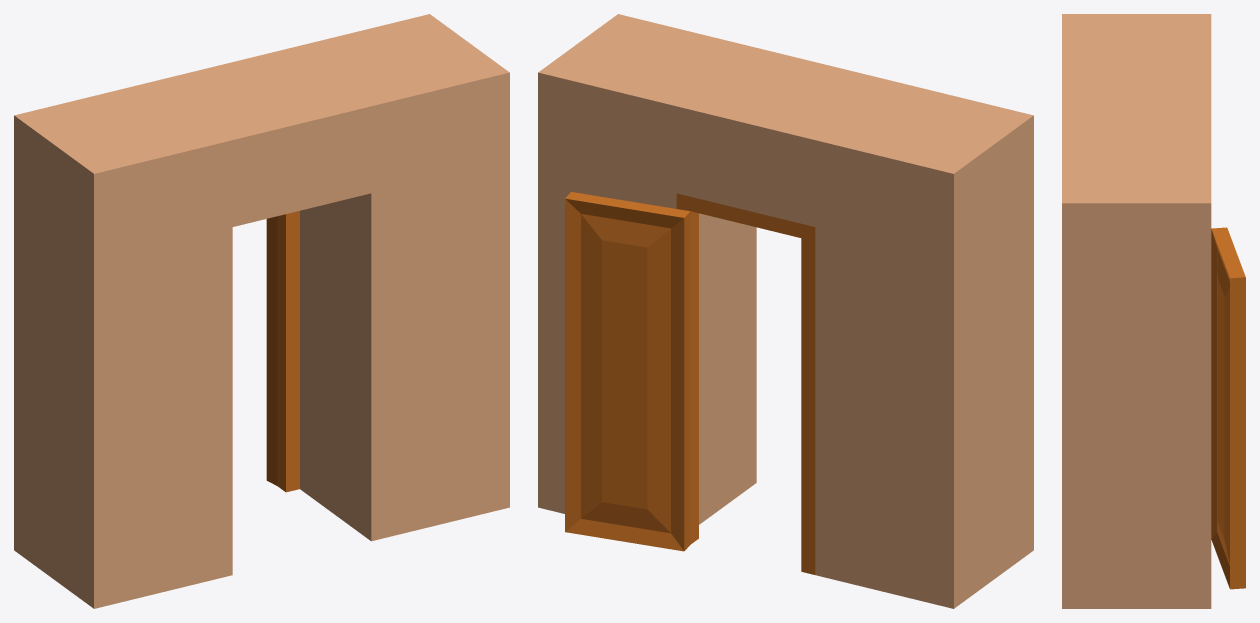
File: paredeportaescritorio.fbx
The picture shows the model from 3 angles, left to right: view 1: azimuth 30°, elevation 25°; view 2: azimuth 150°, elevation 25°; view 3: azimuth 270°, elevation 25°; orthographic projection. The views are drawn at different scales.
Parts seen in each view (by area): view 1: parede porta escritorio; view 2: parede porta escritorio; view 3: parede porta escritorio.
Part boxes in pixels (x1,y1,x2,y2): parede porta escritorio: [14, 14, 509, 608]; parede porta escritorio: [538, 14, 1033, 608]; parede porta escritorio: [1062, 14, 1245, 608].
Bounding box in the file's own units: 3 × 1.23 × 3.
2 materials, 2 textured.
